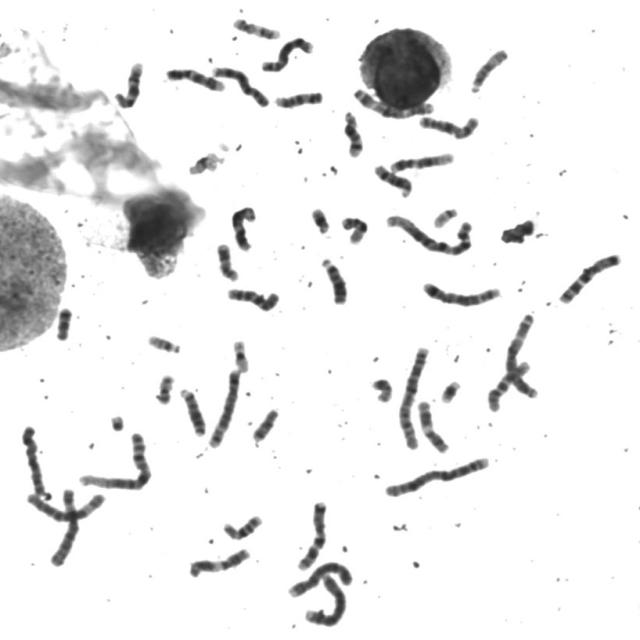A1: (75, 428, 154, 492), (382, 209, 477, 257)
A2: (381, 451, 494, 499), (394, 342, 432, 450)
A3: (502, 308, 542, 399), (349, 83, 437, 120)
B4: (285, 556, 356, 599), (301, 570, 351, 628)
B5: (205, 364, 243, 450), (418, 277, 504, 308)
C10: (483, 356, 534, 412), (223, 282, 282, 313)
C11: (184, 543, 253, 579), (414, 396, 452, 454)
C12: (386, 147, 457, 174), (226, 204, 262, 254)
C6: (44, 483, 82, 568), (22, 488, 108, 522)
C7: (555, 248, 624, 305), (293, 496, 331, 572)
C8: (208, 66, 272, 110), (257, 32, 317, 74)
C9: (162, 63, 228, 93), (111, 57, 146, 109)
D13: (176, 383, 209, 438), (318, 253, 350, 306)
D14: (370, 160, 416, 198), (340, 105, 366, 158)
D15: (466, 43, 512, 95), (267, 89, 332, 114)
E16: (219, 510, 265, 541), (337, 212, 371, 245)
E17: (229, 12, 284, 40), (213, 239, 242, 282)
E18: (248, 403, 282, 444), (53, 302, 75, 342)
F19: (182, 154, 224, 180), (228, 335, 253, 373)
F20: (152, 370, 177, 406), (368, 373, 396, 404)
G21: (307, 202, 333, 235), (437, 374, 464, 404)
G22: (143, 330, 184, 355), (429, 202, 461, 229)
X: (16, 420, 52, 500), (410, 111, 480, 142)
